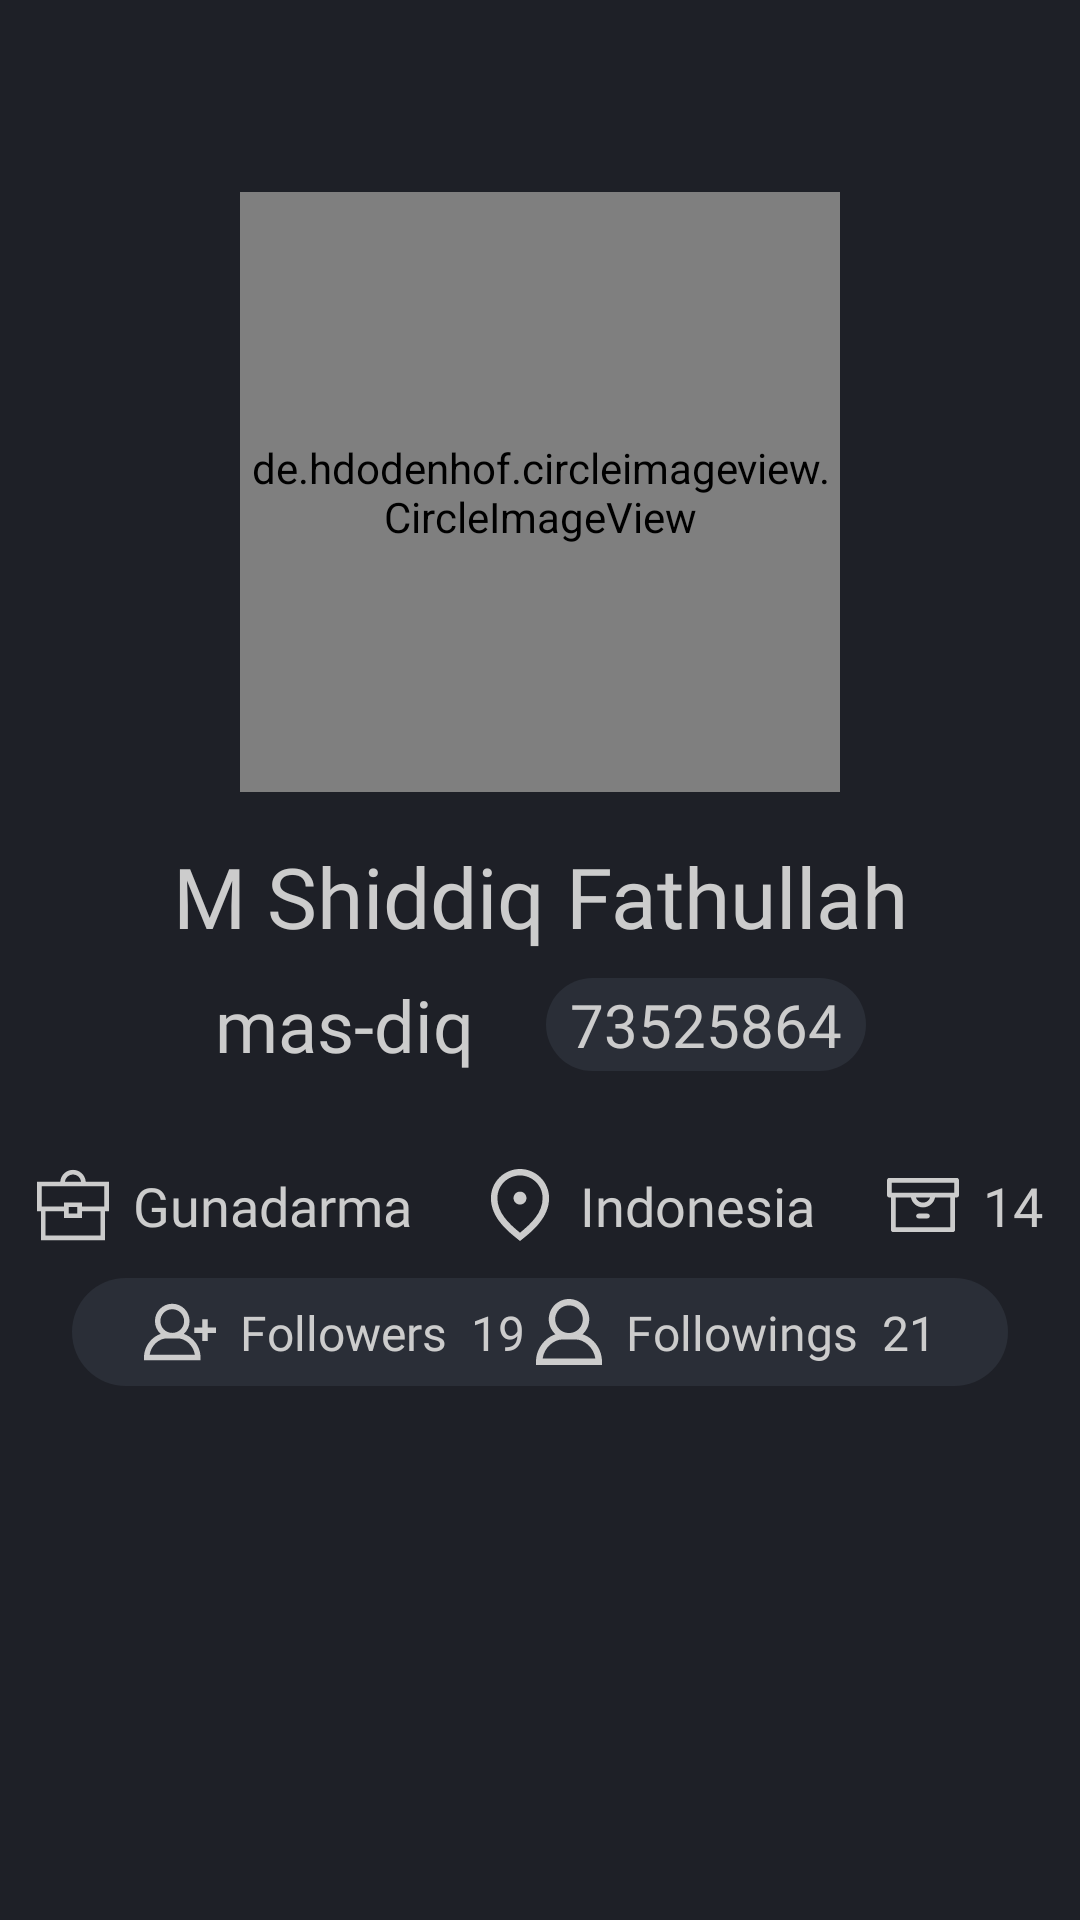

Where to tap for icons on this 1080 x 1920 app screen, as point (x, y):
Company: point (73, 1205)
Repository: point (923, 1205)
